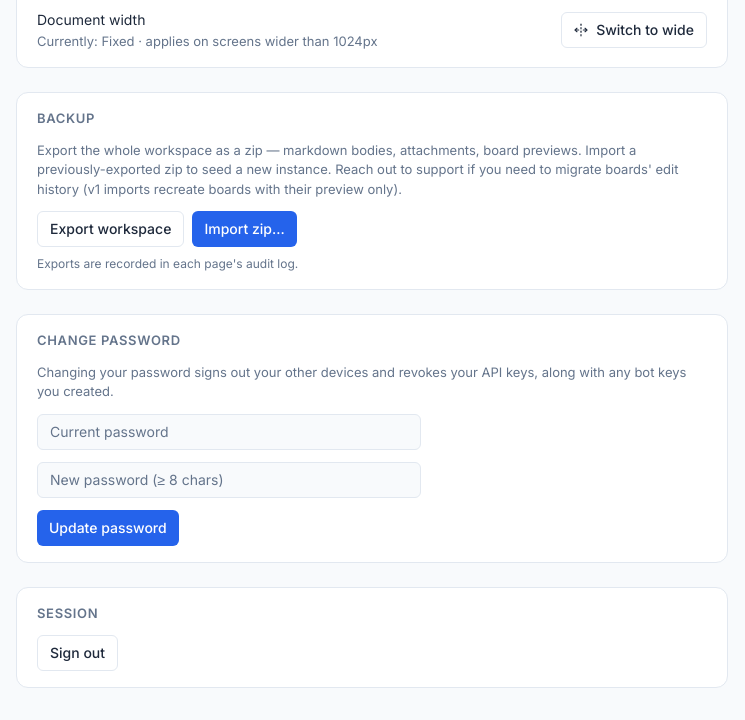
SettingsPage change password › shows the rate-limit text when password changes are limited
The width and height of the screenshot is (745, 720).
(page scrolled)
Step 1. Type "old-password" into the password field with test id "pw-current" → (229, 432), box 37,414 -> 421,450
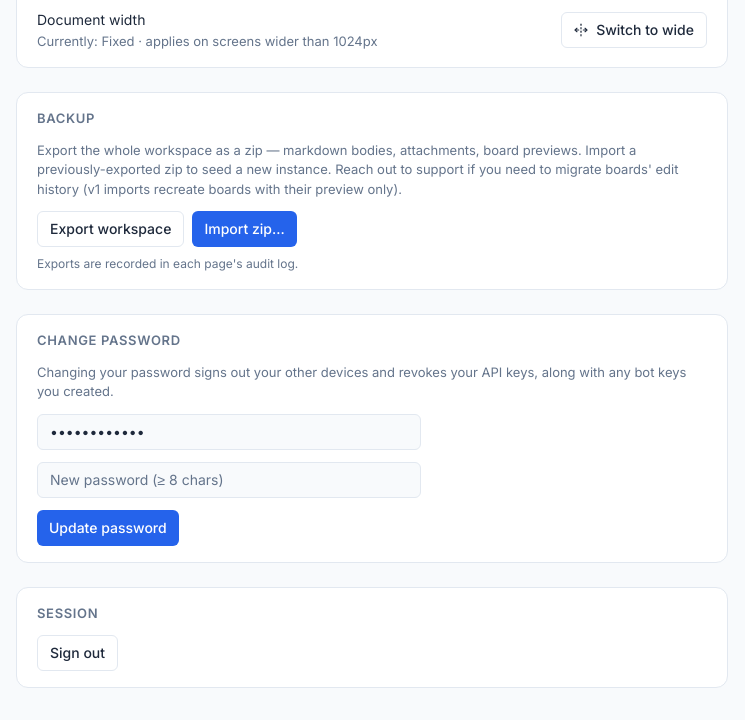
Step 2. Type "new-password" into the password field with test id "pw-new" → (229, 480), box 37,462 -> 421,498
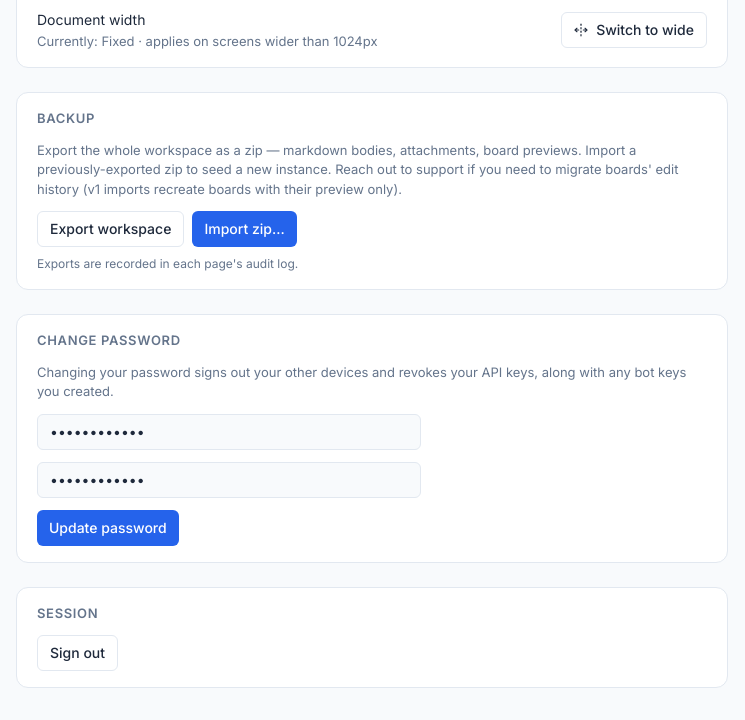
Step 3. Click the button with test id "pw-submit" → (108, 528), box 37,510 -> 179,546
(page scrolled)
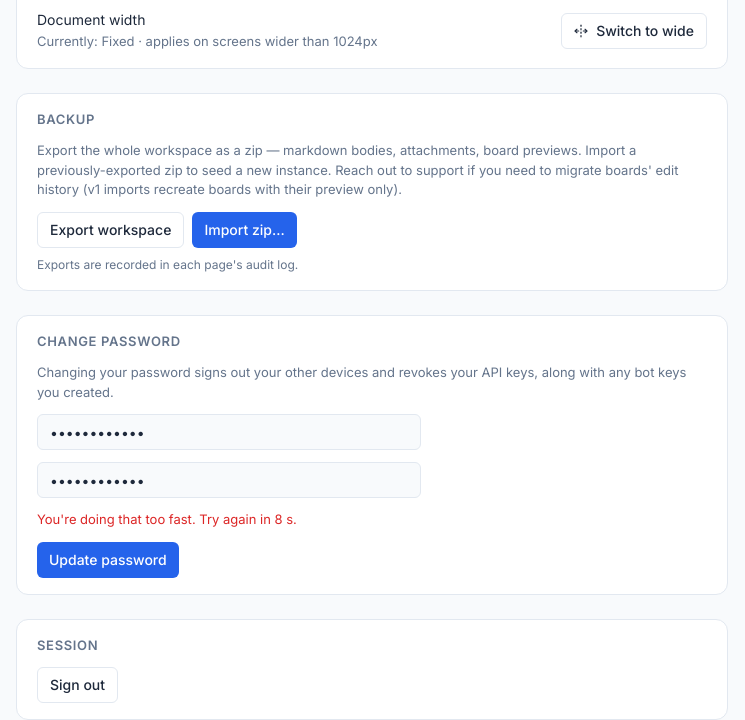
expect the message with test id "pw-error" reads "You're doing that too fast. Try again in 8 s.": met, box 37,511 -> 297,527
